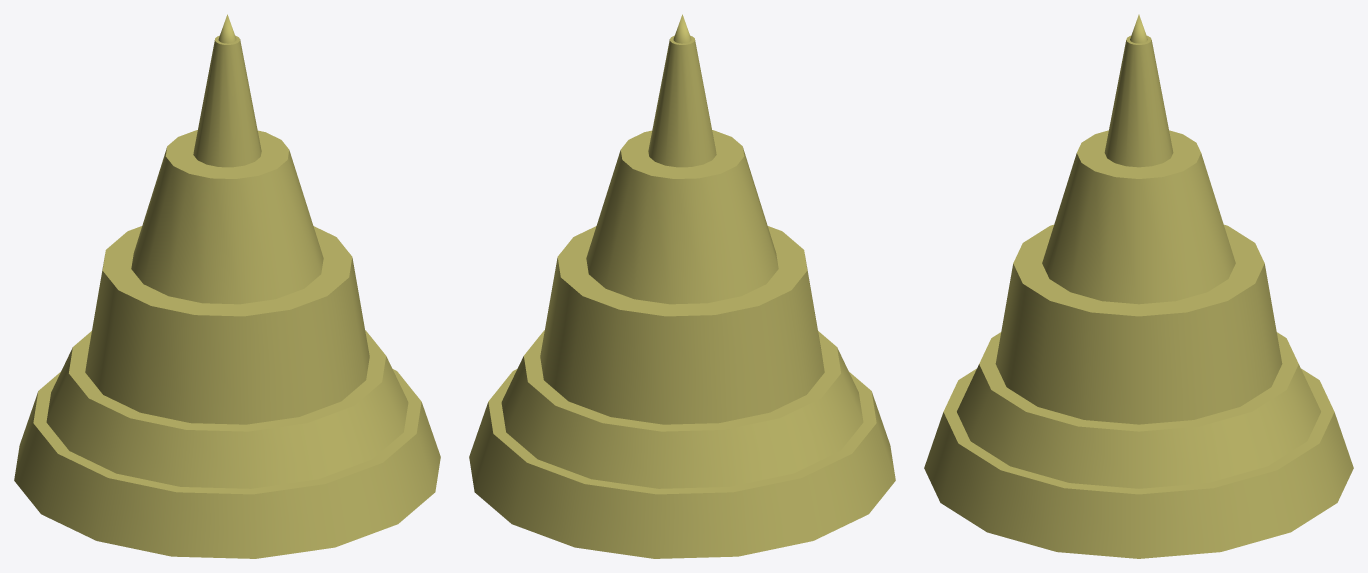
File: pagoda.glb
3 renders of one model, left to right at view 1: azimuth 30°, elevation 25°; view 2: azimuth 150°, elevation 25°; view 3: azimuth 270°, elevation 25°, orthographic.
Visible parts, largest first — view 1: Pagoda; view 2: Pagoda; view 3: Pagoda.
Part boxes in pixels (x1,y1,x2,y2): Pagoda: (14,14,440,558); Pagoda: (469,14,895,558); Pagoda: (924,14,1353,558).
Bounding box in the file's own units: 10.61 × 12.37 × 10.61.
